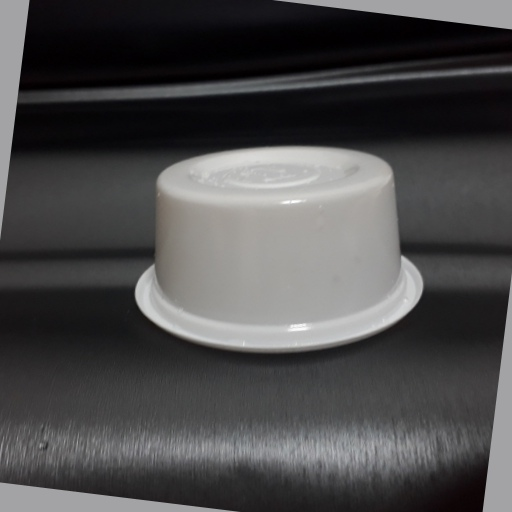Plastic_5: (130, 144, 425, 359)
